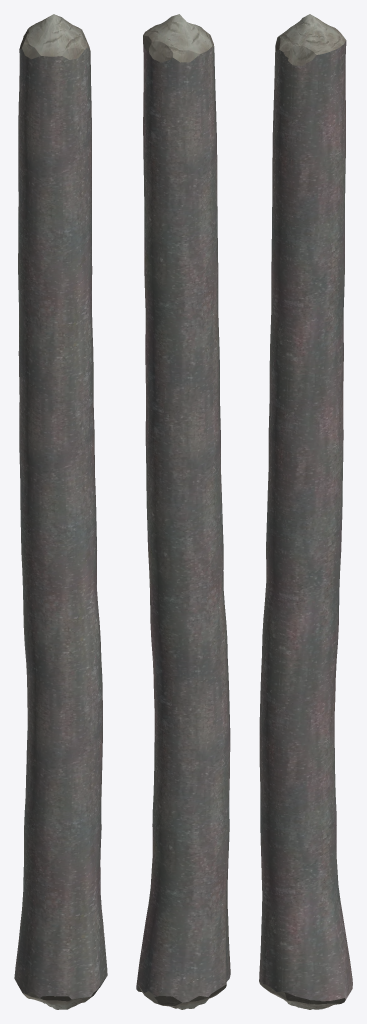
The picture shows the model from 3 angles, left to right: view 1: azimuth 90°, elevation 25°; view 2: azimuth 150°, elevation 25°; view 3: azimuth 330°, elevation 25°; orthographic projection.
Visible parts, largest first — view 1: SM_GF_Ash_Tree_03_tree_quarters_bottom_LOD0; view 2: SM_GF_Ash_Tree_03_tree_quarters_bottom_LOD0; view 3: SM_GF_Ash_Tree_03_tree_quarters_bottom_LOD0.
Part boxes in pixels (<box>): SM_GF_Ash_Tree_03_tree_quarters_bottom_LOD0: <box>14,14,107,1009</box>; SM_GF_Ash_Tree_03_tree_quarters_bottom_LOD0: <box>136,14,230,1009</box>; SM_GF_Ash_Tree_03_tree_quarters_bottom_LOD0: <box>259,14,352,1009</box>.
Size of the model in its own units: 0.5918 by 6.81 by 0.5785.
1 material, 1 textured.
